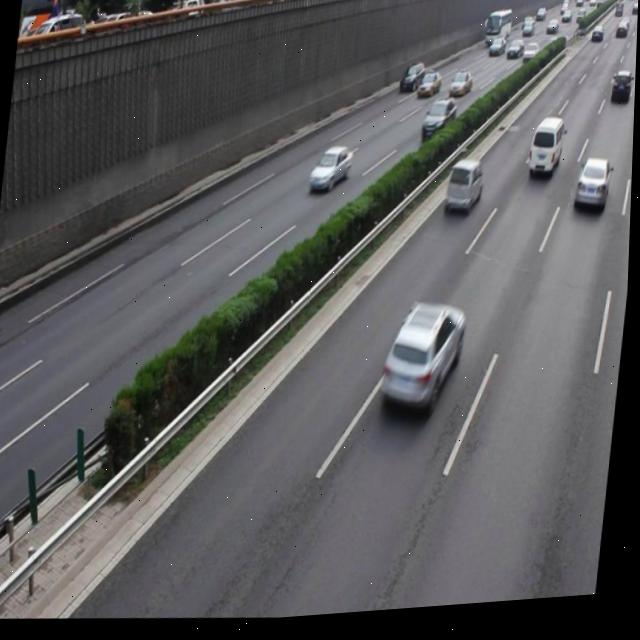car: (379, 300, 469, 417), (309, 146, 353, 197), (446, 163, 484, 219), (574, 162, 613, 216), (420, 103, 458, 149)
truck: (527, 121, 565, 183)
